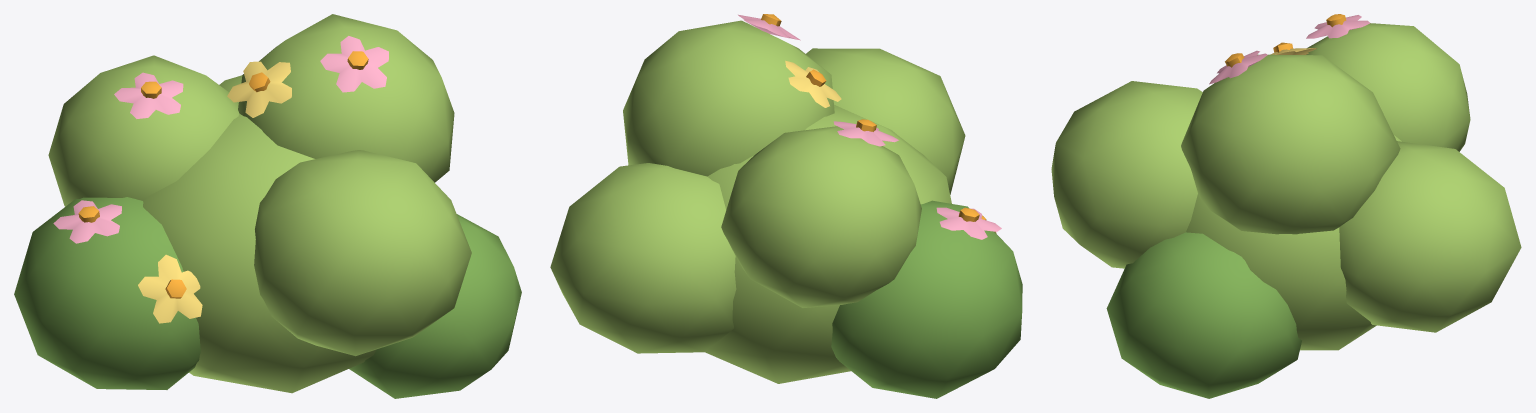
File: prop_desert_shrub.glb
3 views of the same model, side by side, from view 1: azimuth 30°, elevation 25°; view 2: azimuth 150°, elevation 25°; view 3: azimuth 270°, elevation 25° (orthographic). The views are drawn at different scales.
Parts seen in each view (by area): view 1: prop_desert_shrub; view 2: prop_desert_shrub; view 3: prop_desert_shrub.
Part boxes in pixels (x1,y1,x2,y2): prop_desert_shrub: [14, 14, 521, 398]; prop_desert_shrub: [550, 14, 1022, 398]; prop_desert_shrub: [1051, 14, 1521, 398].
Size of the model in its own units: 0.9958 by 0.7656 by 1.02.
